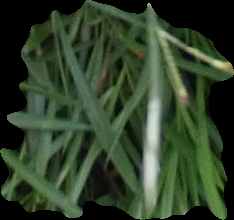grass: (1, 1, 233, 219)
